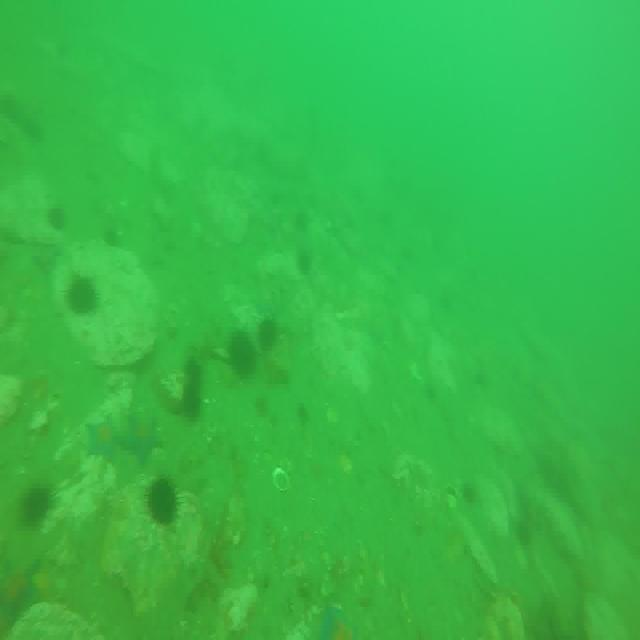echinus: (146, 477, 178, 524), (68, 280, 100, 316), (22, 486, 52, 522), (230, 331, 252, 375), (512, 514, 531, 548), (258, 321, 277, 349), (180, 387, 200, 413), (184, 356, 202, 384), (298, 244, 312, 277), (49, 205, 64, 232), (296, 209, 310, 235), (463, 481, 479, 501)
starfish: (0, 549, 48, 629), (121, 410, 161, 462), (85, 417, 118, 464), (321, 596, 354, 640)
